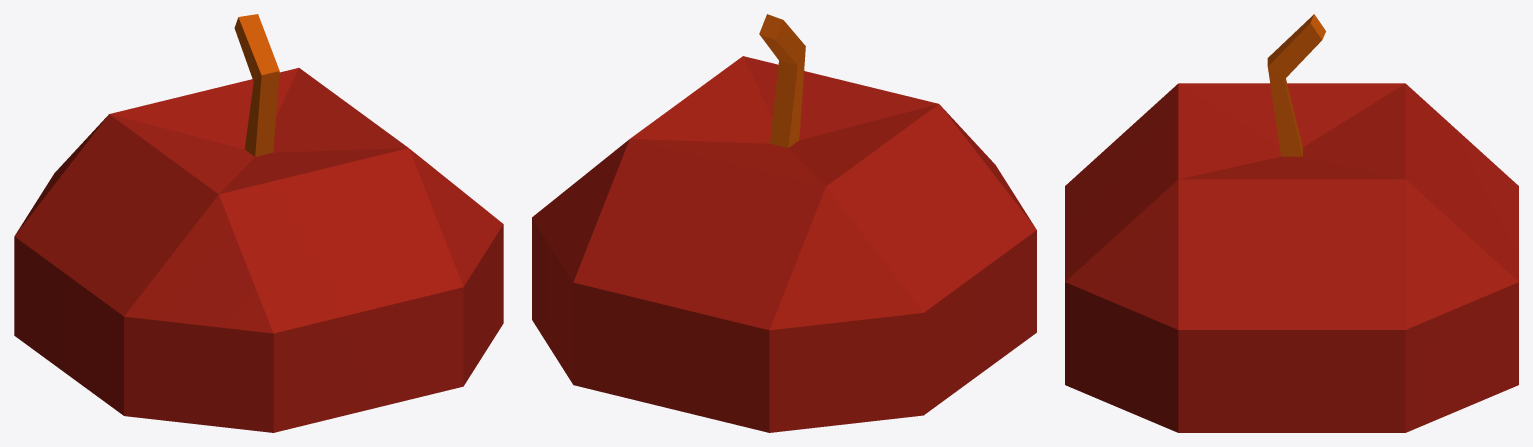
The model's file is apple1.fbx.
3 views of the same model, side by side, from view 1: azimuth 30°, elevation 25°; view 2: azimuth 150°, elevation 25°; view 3: azimuth 270°, elevation 25° (orthographic). The views are drawn at different scales.
Parts seen in each view (by area): view 1: Cube; view 2: Cube; view 3: Cube.
Boxes of the visible parts, x1,y1,x2,y2 form: Cube: (14, 14, 503, 432); Cube: (532, 14, 1036, 432); Cube: (1065, 14, 1518, 432).
Size of the model in its own units: 200 by 155 by 200.
